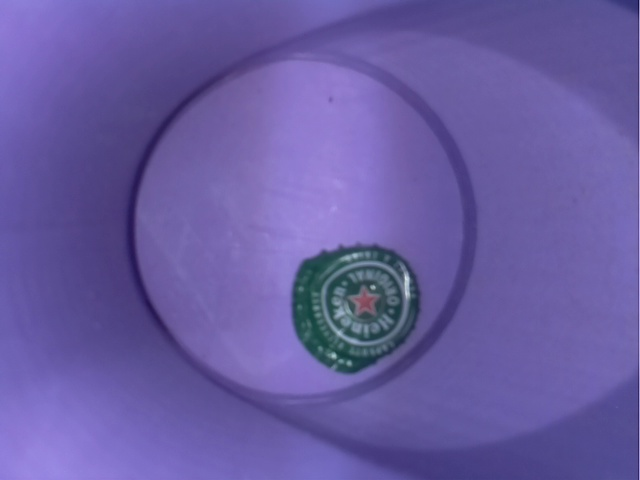capsule: (281, 243, 439, 381)
